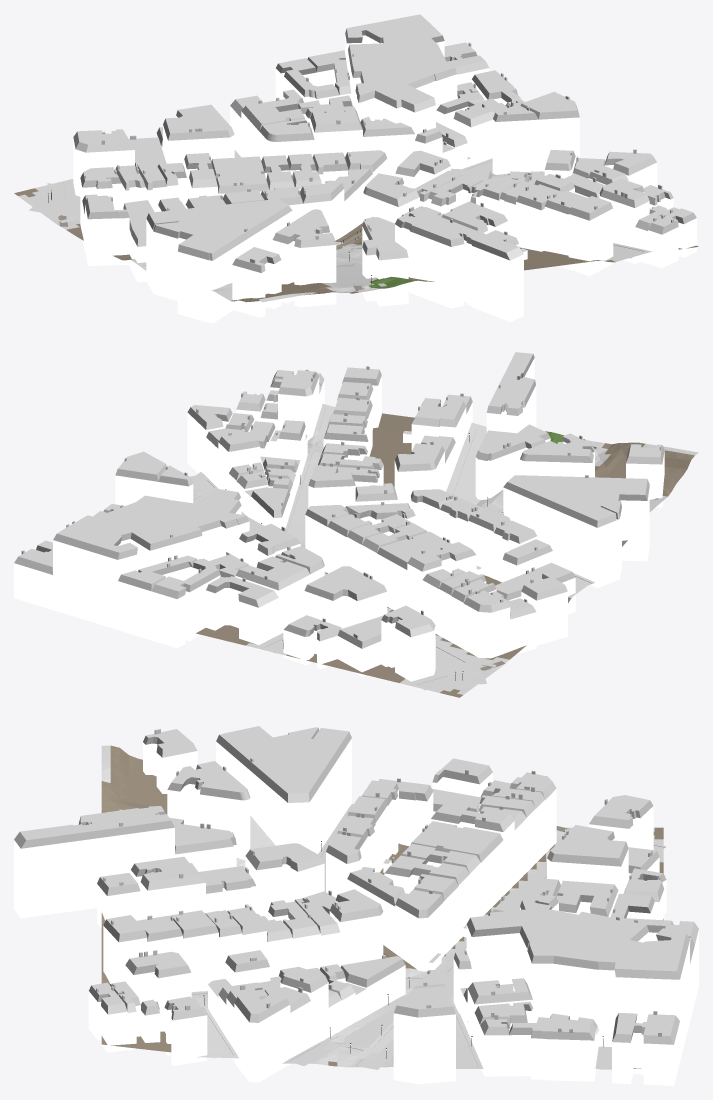
Rendered from zone_F6.glb.
3 renders of one model, top to bottom at view 1: azimuth 30°, elevation 25°; view 2: azimuth 150°, elevation 25°; view 3: azimuth 270°, elevation 25°, orthographic. The views are drawn at different scales.
Visible parts, largest first — view 1: zone_F6_batiments, zone_F6_terrain, zone_F6_sol_NOCOL; view 2: zone_F6_batiments, zone_F6_terrain, zone_F6_sol_NOCOL; view 3: zone_F6_batiments, zone_F6_terrain, zone_F6_sol_NOCOL.
Part boxes in pixels (x1,y1,x2,y2): zone_F6_batiments: (73, 14, 696, 323); zone_F6_terrain: (14, 150, 698, 302); zone_F6_sol_NOCOL: (29, 157, 645, 295); zone_F6_batiments: (14, 352, 664, 686); zone_F6_terrain: (193, 404, 698, 697); zone_F6_sol_NOCOL: (190, 407, 654, 690); zone_F6_batiments: (14, 726, 698, 1085); zone_F6_terrain: (101, 745, 663, 1068); zone_F6_sol_NOCOL: (191, 804, 666, 1069).
Bounding box in the file's own units: 208 × 43.71 × 226.
